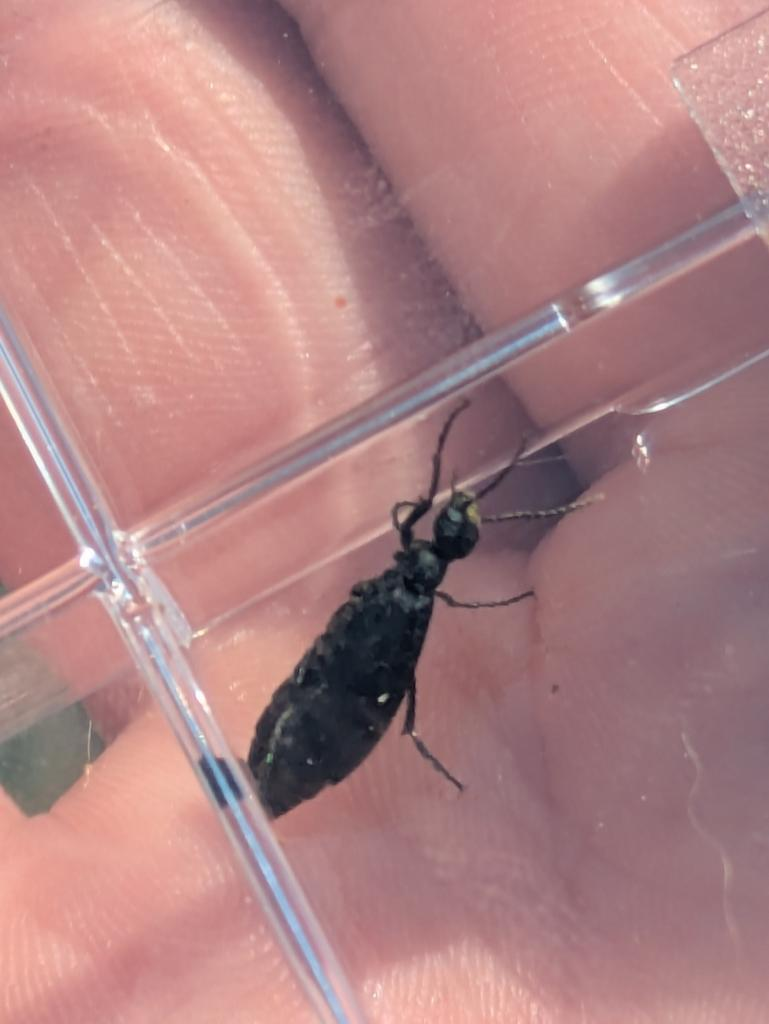blister_beetle: (198, 353, 637, 863)
